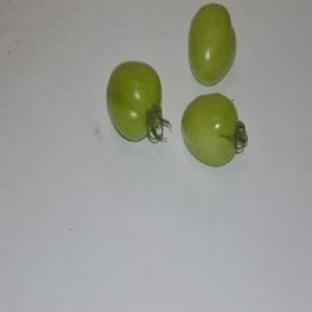Tomato: (106, 62, 169, 142), (182, 94, 247, 165), (189, 3, 236, 86)
